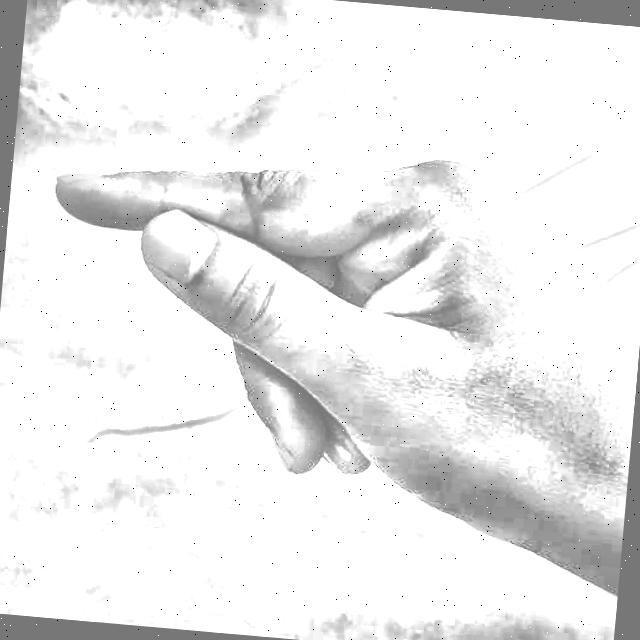Tha: (8, 55, 636, 602)
